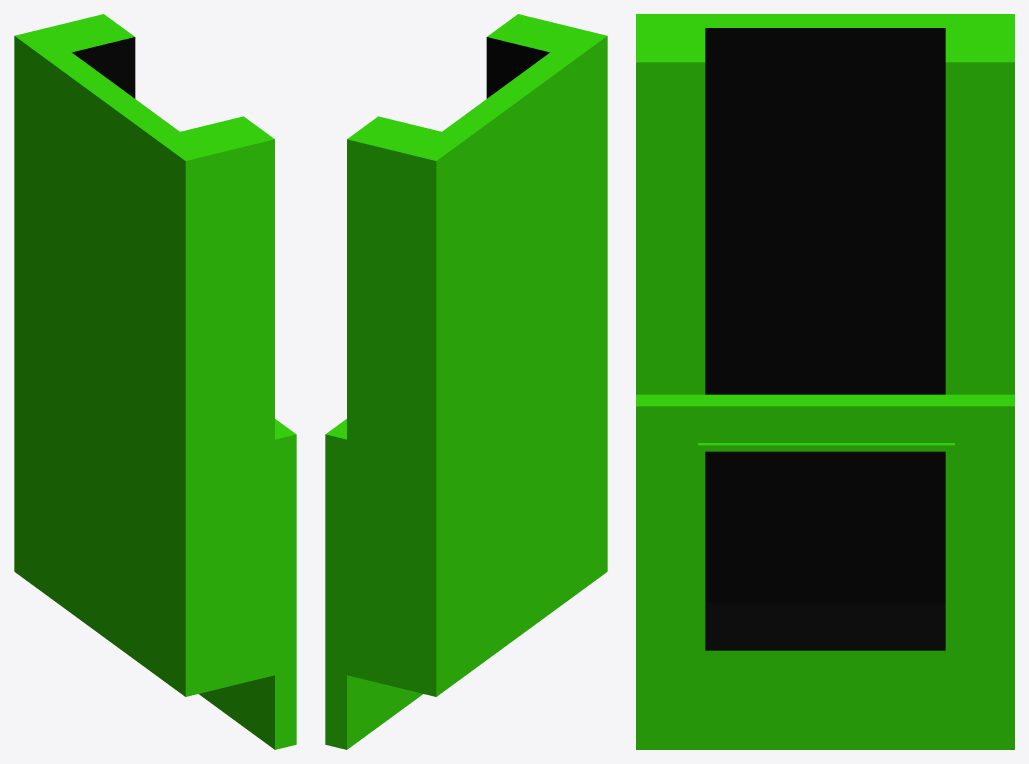
Rendered from DollFallfbx.fbx.
3 views of the same model, side by side, from view 1: azimuth 30°, elevation 25°; view 2: azimuth 150°, elevation 25°; view 3: azimuth 270°, elevation 25° (orthographic). The views are drawn at different scales.
Visible parts, largest first — view 1: Wall; view 2: Wall; view 3: Wall.
Boxes of the visible parts, left/top/right/bottom form: Wall: left=14, top=14, right=296, bottom=749; Wall: left=325, top=14, right=607, bottom=749; Wall: left=636, top=14, right=1014, bottom=749.
Bounding box in the file's own units: 77.83 × 394 × 200.
